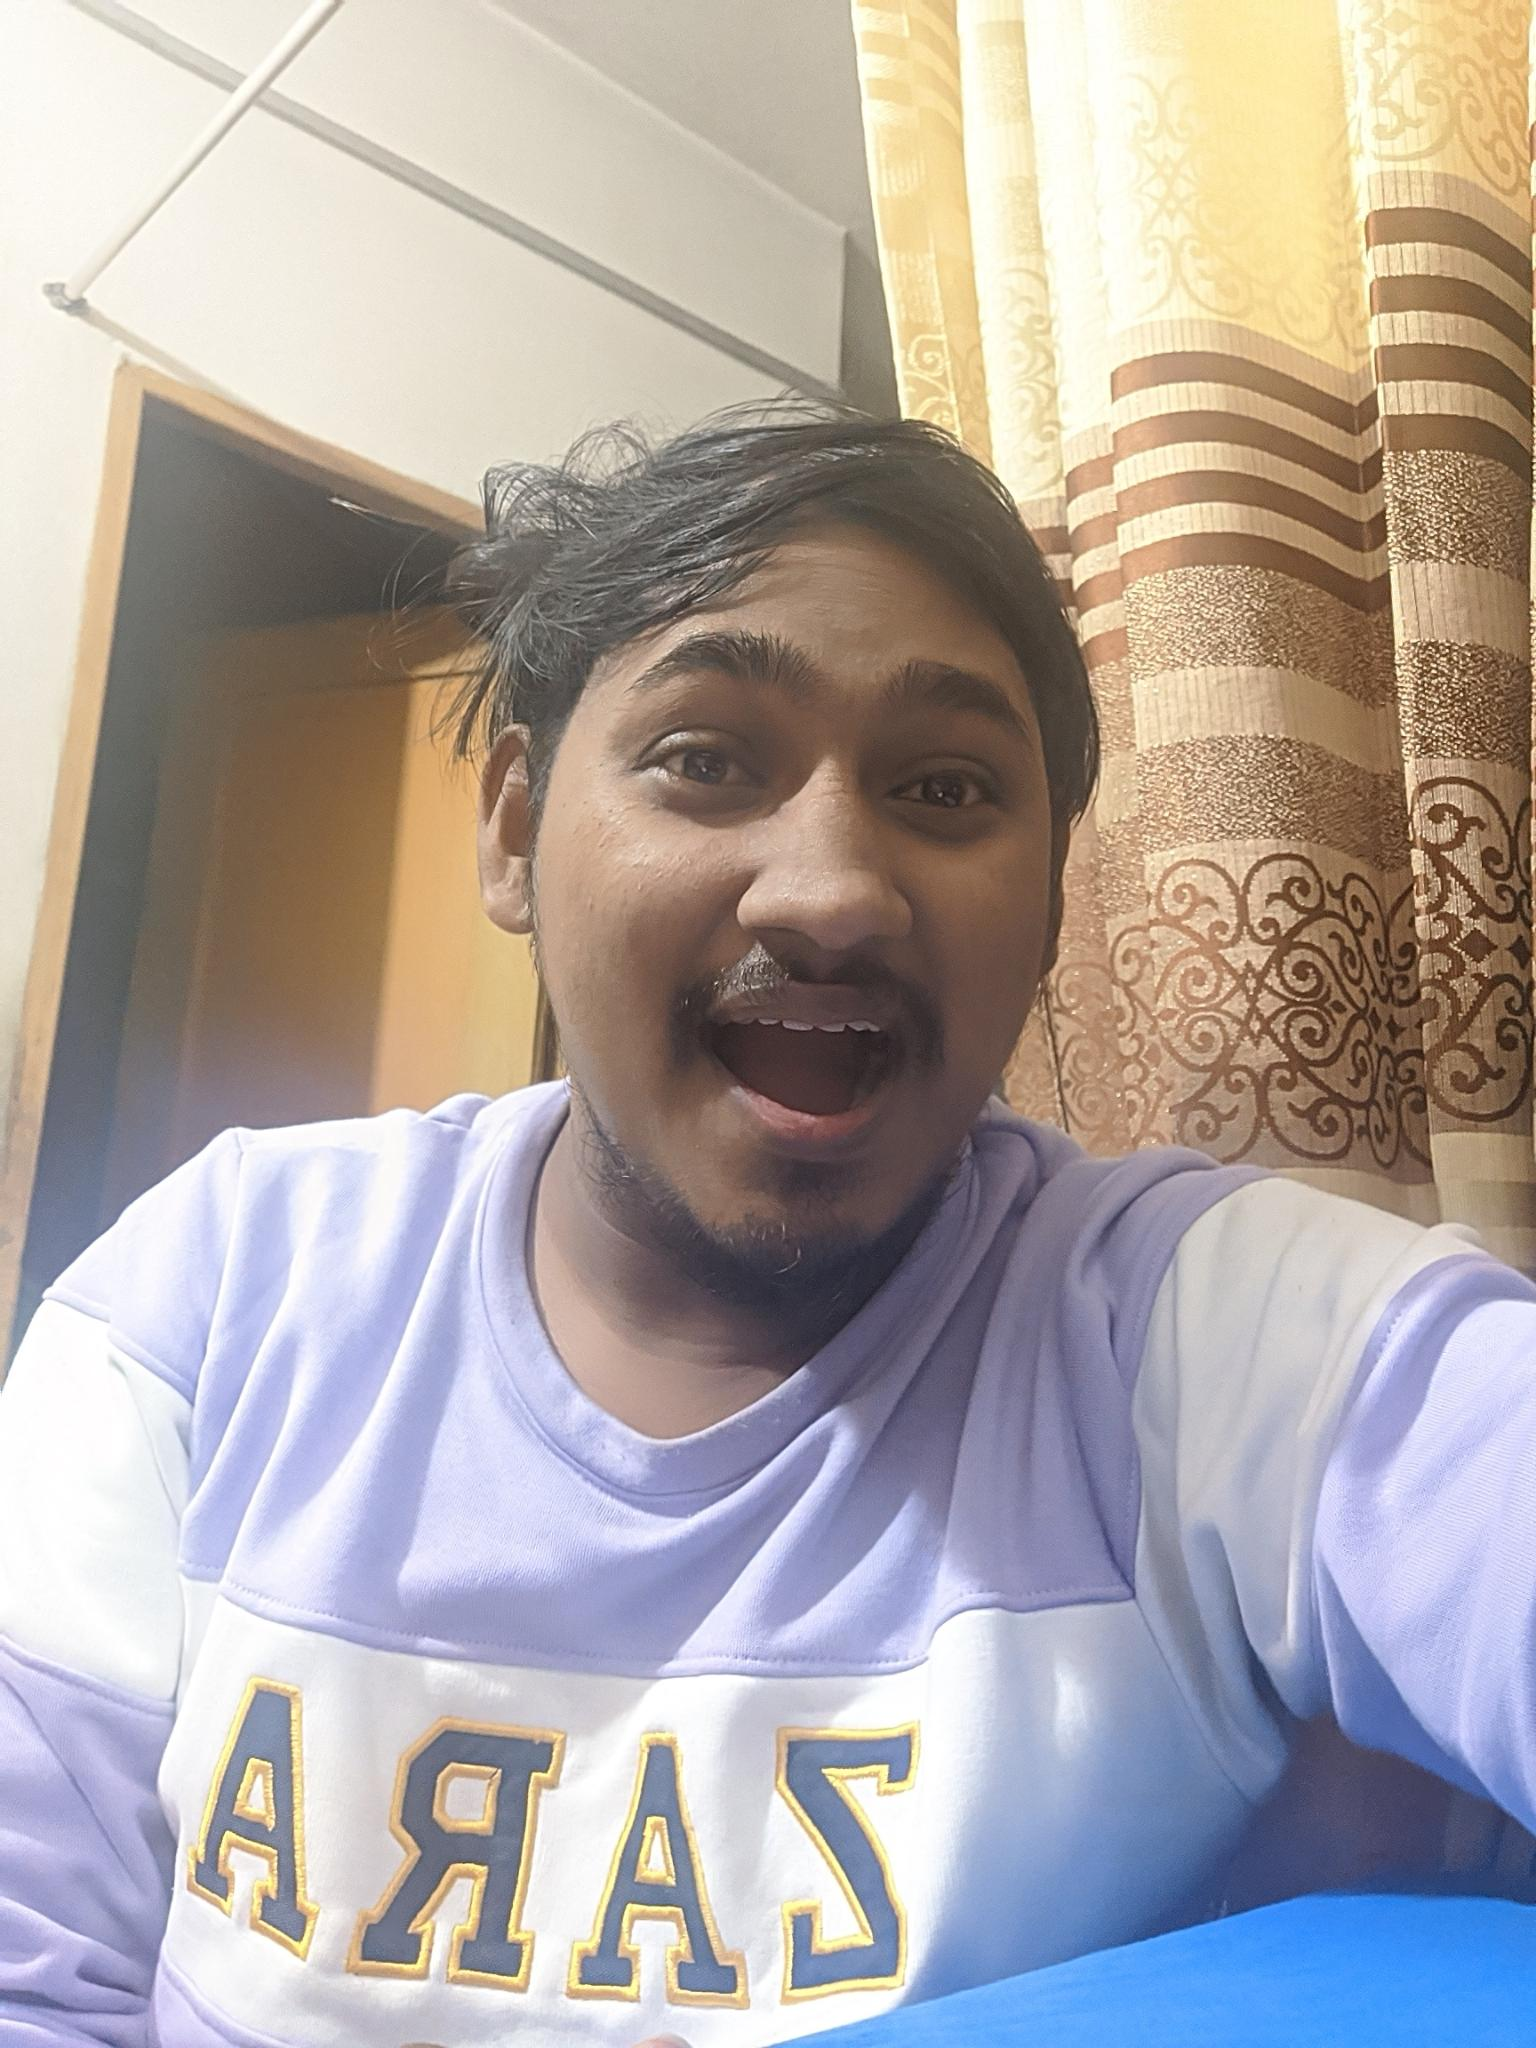Surprise: (547, 561, 1073, 1297)
